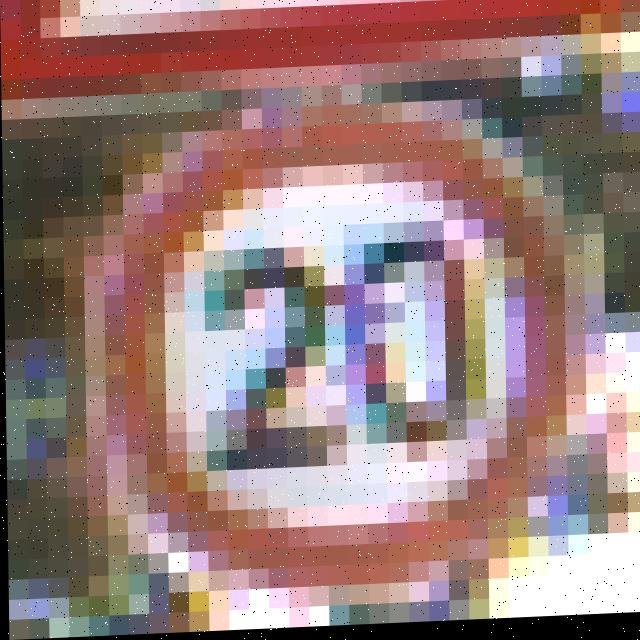speed_limit_20: (80, 86, 600, 602)
